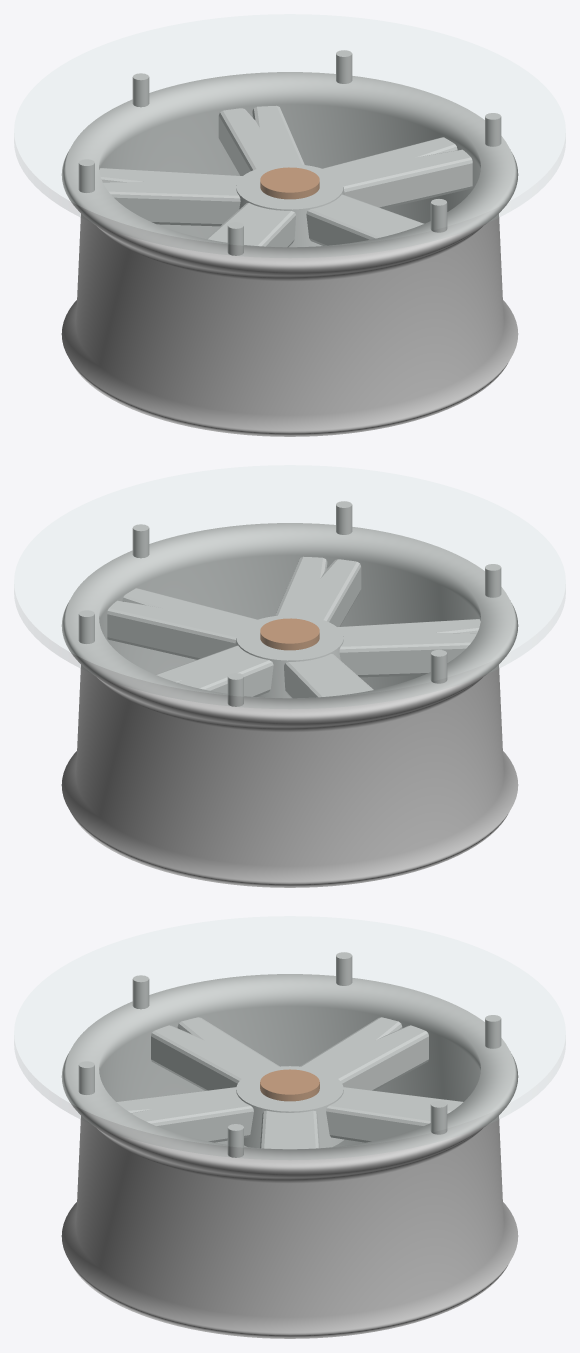
Rendered from wheel-table-placeholder.glb.
3 renders of one model, top to bottom at view 1: azimuth 30°, elevation 25°; view 2: azimuth 150°, elevation 25°; view 3: azimuth 270°, elevation 25°, orthographic.
Bounding box in the file's own units: 0.74 × 0.313 × 0.74.
